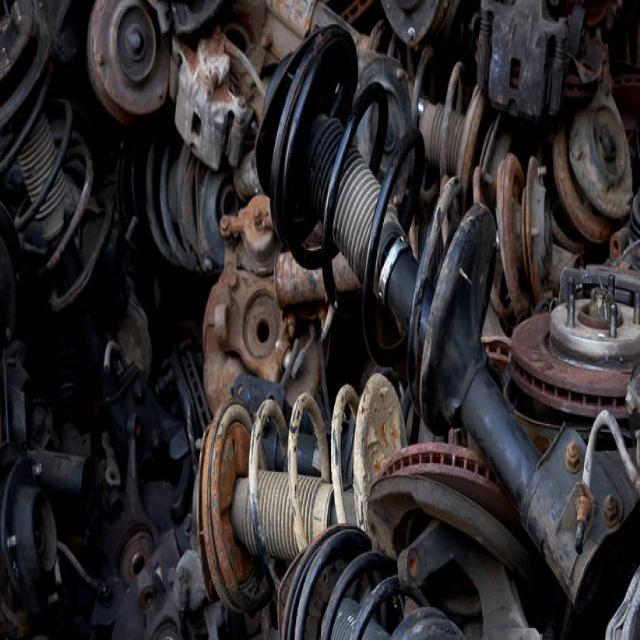shock absorber: (252, 19, 639, 610), (192, 374, 410, 616), (0, 13, 113, 312)
